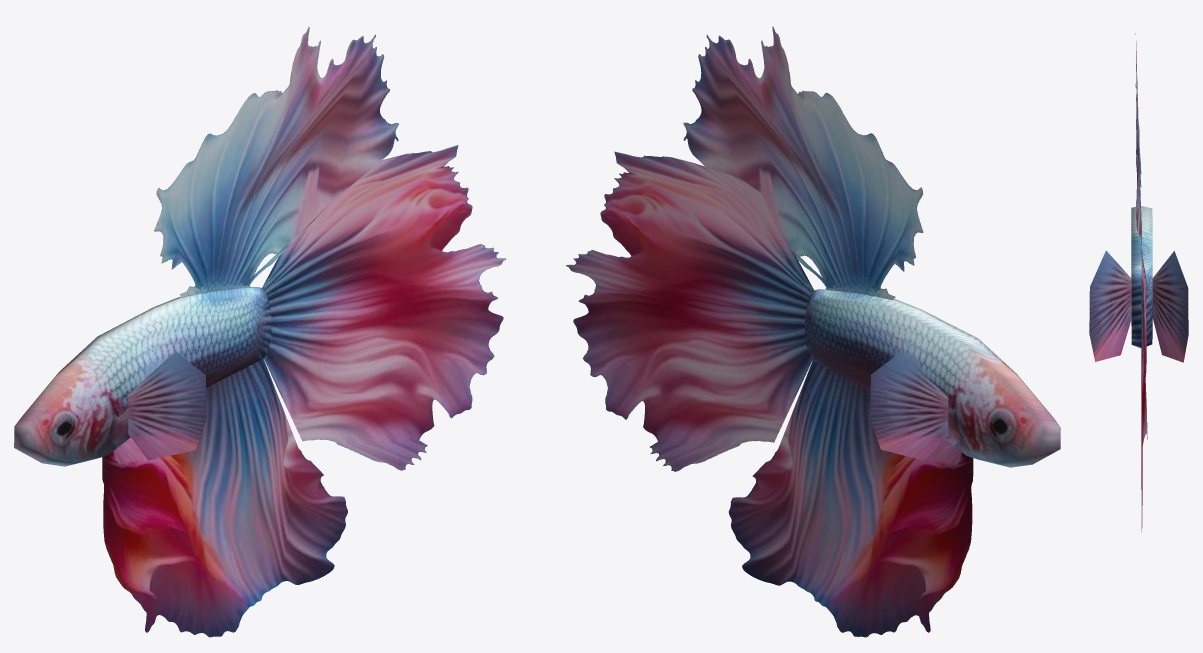
File: simplefishKeyframes.glb
3 views of the same model, side by side, from view 1: azimuth 30°, elevation 25°; view 2: azimuth 150°, elevation 25°; view 3: azimuth 270°, elevation 25° (orthographic). The views are drawn at different scales.
Parts seen in each view (by area): view 1: Fish; view 2: Fish; view 3: Fish.
Boxes of the visible parts, <box> form: Fish: <box>14,26,505,637</box>; Fish: <box>566,26,1060,637</box>; Fish: <box>1089,33,1188,532</box>.
Bounding box in the file's own units: 4.29 × 4.9 × 0.6864.
Materials: 2 (2 with a texture image).
